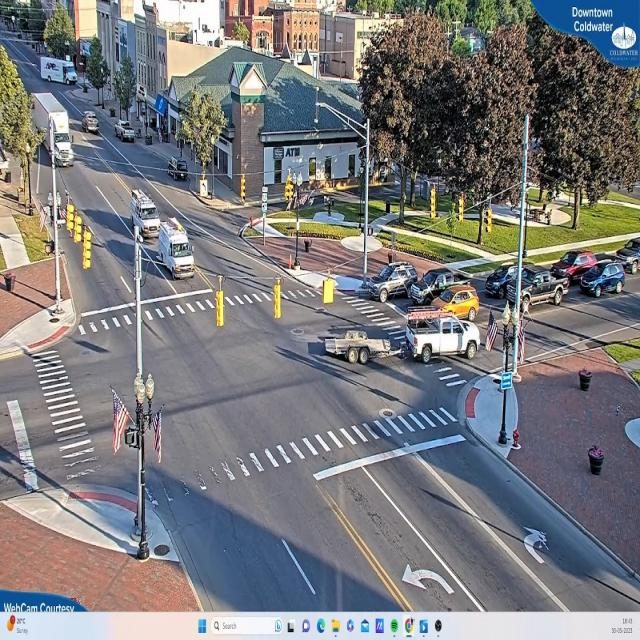car: (409, 316, 481, 363), (510, 267, 570, 310), (157, 221, 194, 279), (367, 264, 421, 302), (431, 286, 482, 321), (580, 263, 628, 297), (132, 194, 162, 243), (551, 252, 600, 280)
